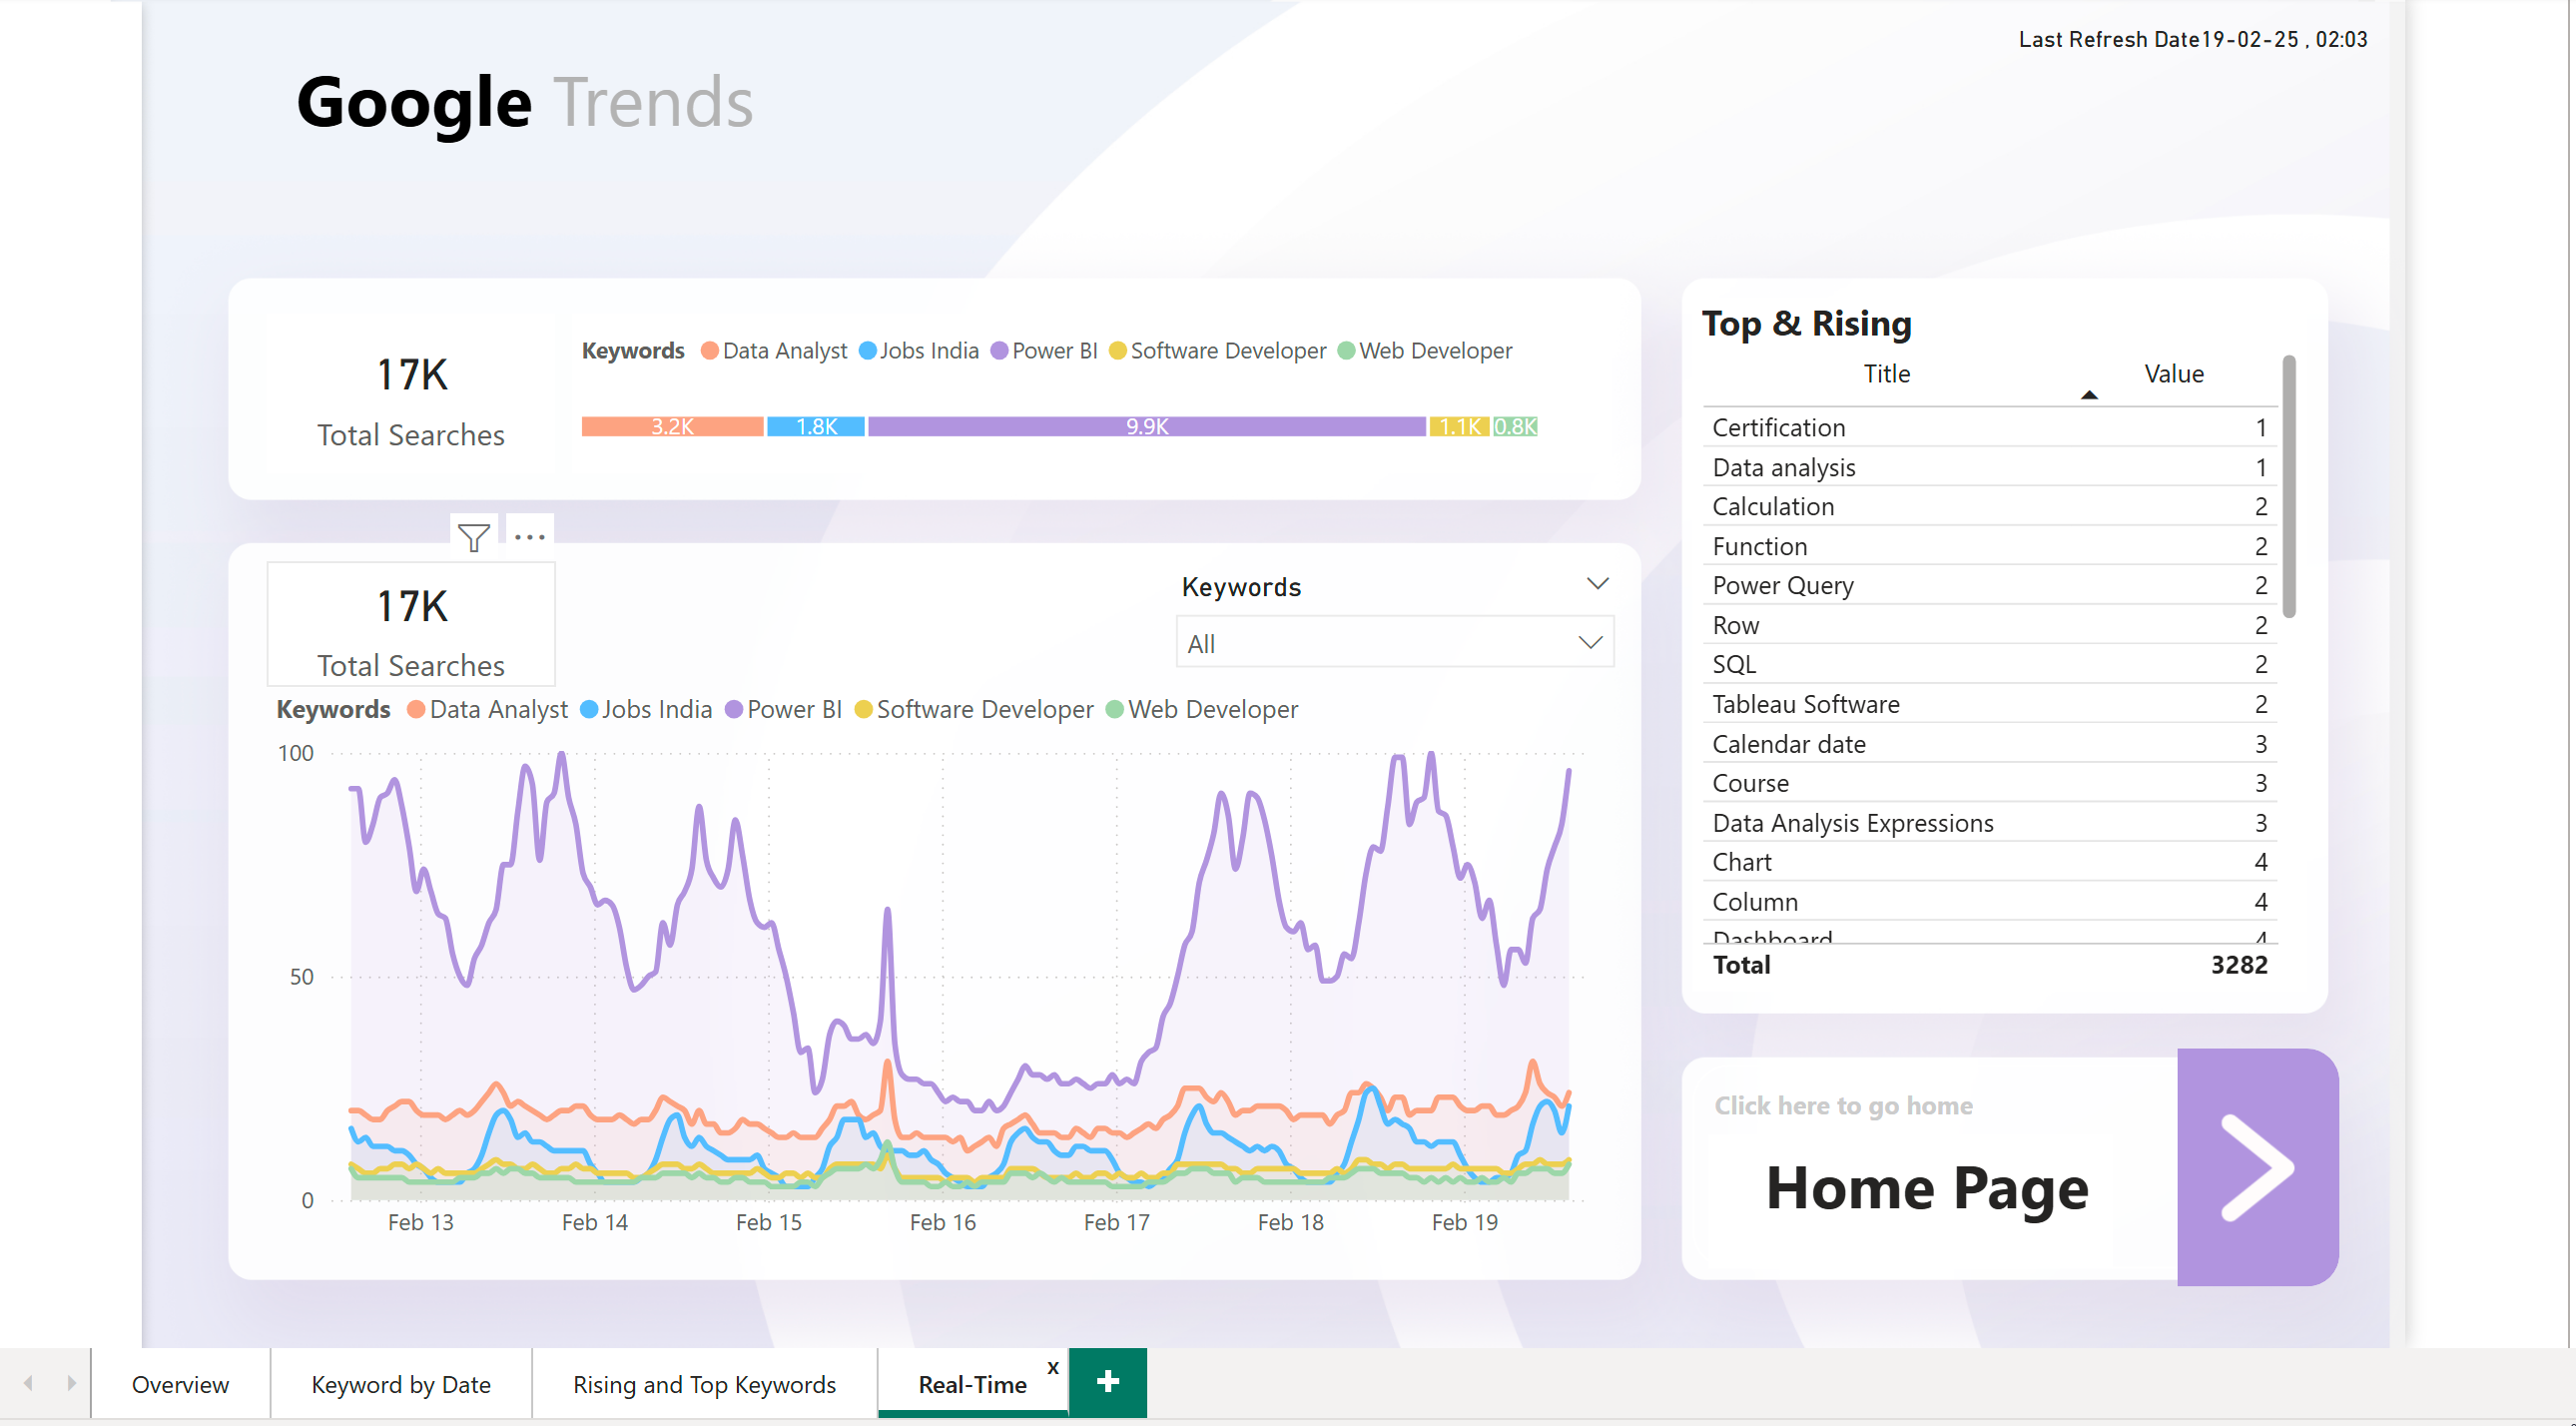

Layout of this report page (visuals, bound fields, positions):
{"tool":"powerbi","page":{"name":"Real-Time","canvas":[1280,720],"ordinal":3},"visuals":[{"type":"areaChart","fields":{"Category":["Past_7_Days_Searches.Date"],"Y":["Past_7_Days_Searches.Last_7_Days_Value"],"Series":["Past_7_Days_Searches.Keywords"]},"box":[142.6,360.3,715.6,311.1],"z":0},{"type":"slicer","fields":{"Values":["Past_7_Days_Searches.Keywords"]},"box":[616,301.2,253.3,67.6],"z":1000},{"type":"card","fields":{"Values":["Past_7_Days_Searches.Last_7_Days_Value"]},"box":[142.6,301.2,153.7,67.6],"z":2000},{"type":"card","fields":{"Values":["Past_7_Days_Searches.Last_7_Days_Value"]},"box":[142.6,169.7,153.7,84.8],"z":3000},{"type":"barChart","fields":{"Y":["Past_7_Days_Searches.Last_7_Days_Value"],"Series":["Past_7_Days_Searches.Keywords"]},"box":[304.9,169.7,553.3,84.8],"z":4000},{"type":"textbox","box":[900,568.8,326.6,108.5],"z":5000},{"type":"actionButton","box":[1158.3,560.7,86.1,126.6],"z":6000},{"type":"tableEx","title":"Top & Rising","fields":{"Values":["Top_Rising.Title","Sum(Top_Rising.Value)"]},"box":[900.1,161.1,327.1,368.9],"z":7000},{"type":"textbox","box":[152.9,24.4,467.3,92.4],"z":8000},{"type":"card","fields":{"Values":["Min(Refresh_Date.Refresh_Date)"]},"box":[1054.7,0,225.3,51.2],"z":9000},{"type":"textbox","box":[908.7,606.2,215.2,71.3],"z":10000}]}

Visuals, with their boxes on the page's 1280x720 design canvas (x1, y1, x2, y2). These are canvas units, not pixel positions in the 2576x1426 screenshot, which may show the page scaled, cropped or inside an application window:
areaChart - Past_7_Days_Searches.Date x Past_7_Days_Searches.Last_7_Days_Value: (143,360,858,671)
slicer - Past_7_Days_Searches.Keywords: (616,301,869,369)
card - Past_7_Days_Searches.Last_7_Days_Value: (143,301,296,369)
card - Past_7_Days_Searches.Last_7_Days_Value: (143,170,296,254)
barChart - Past_7_Days_Searches.Last_7_Days_Value x Past_7_Days_Searches.Keywords: (305,170,858,254)
textbox: (900,569,1227,677)
actionButton: (1158,561,1244,687)
"Top & Rising" tableEx: (900,161,1227,530)
textbox: (153,24,620,117)
card - Min(Refresh_Date.Refresh_Date): (1055,0,1280,51)
textbox: (909,606,1124,678)
